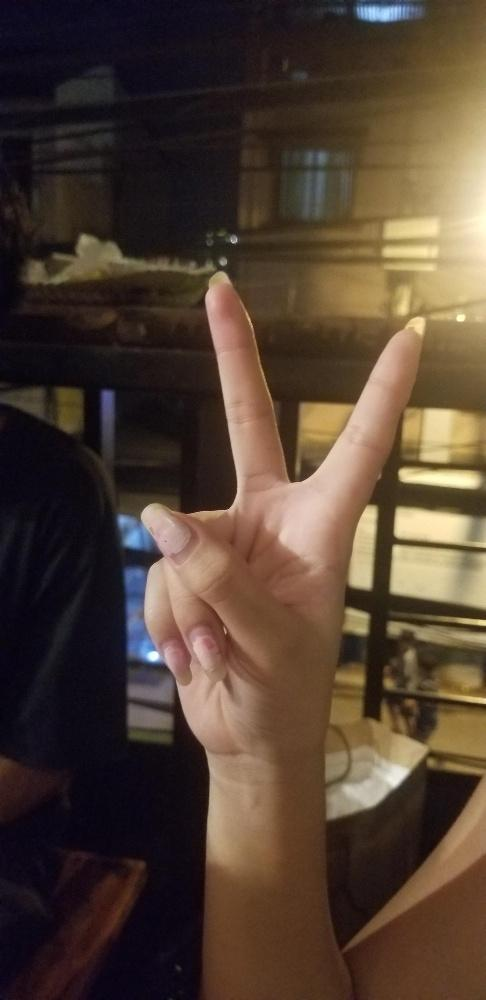v: (136, 268, 429, 765)
